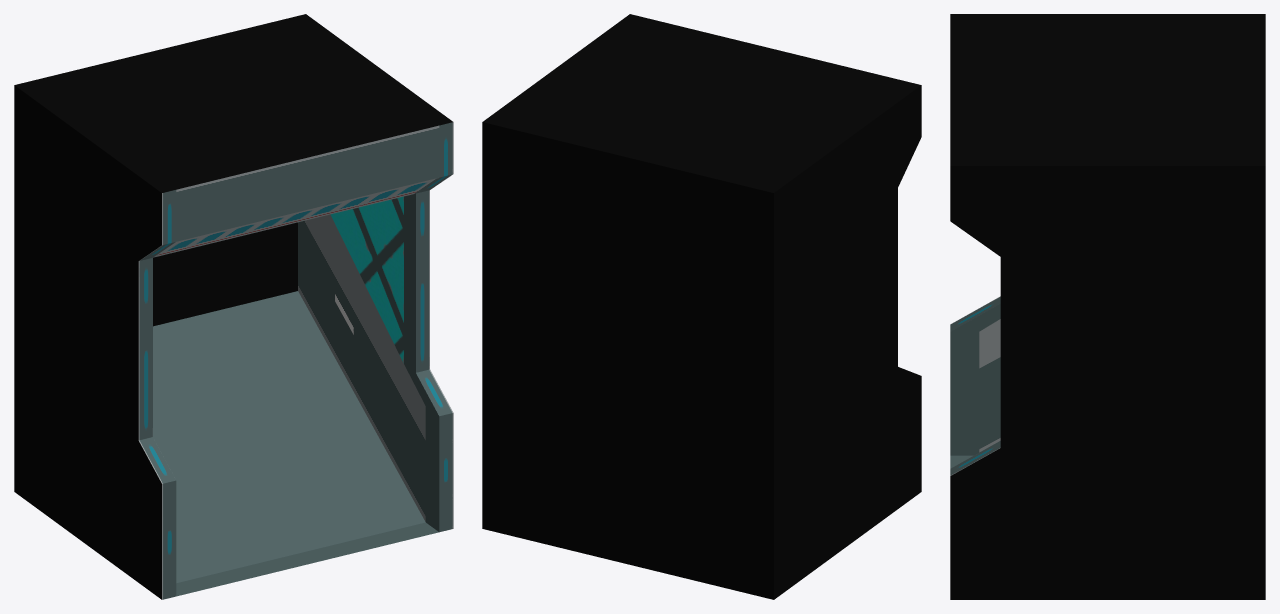
The model's file is WallHoleStairs.fbx.
3 views of the same model, side by side, from view 1: azimuth 30°, elevation 25°; view 2: azimuth 150°, elevation 25°; view 3: azimuth 270°, elevation 25° (orthographic). The views are drawn at different scales.
Visible parts, largest first — view 1: Cube.032; view 2: Cube.032; view 3: Cube.032.
Boxes of the visible parts, left/top/right/bottom form: Cube.032: left=14, top=14, right=453, bottom=599; Cube.032: left=482, top=14, right=921, bottom=599; Cube.032: left=950, top=14, right=1265, bottom=599.
Size of the model in its own units: 300 by 263 by 400.
